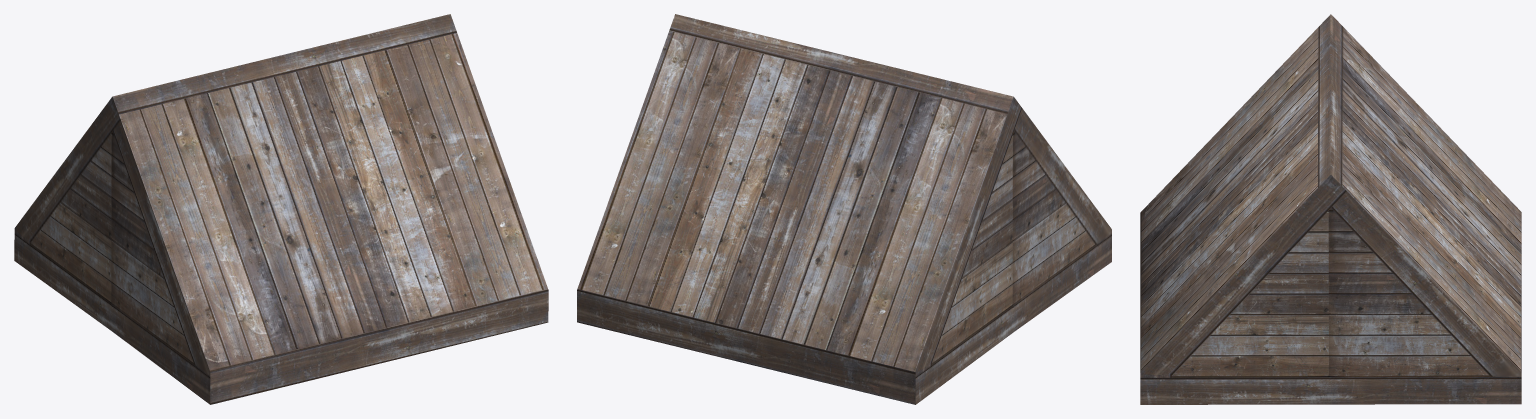
Rendered from roof.FBX.
3 views of the same model, side by side, from view 1: azimuth 30°, elevation 25°; view 2: azimuth 150°, elevation 25°; view 3: azimuth 270°, elevation 25° (orthographic). The views are drawn at different scales.
Visible parts, largest first — view 1: Box009; view 2: Box009; view 3: Box009.
Boxes of the visible parts, box(x1,y1,x2,y2) form: Box009: box(14, 14, 548, 404); Box009: box(577, 14, 1111, 404); Box009: box(1140, 14, 1521, 404).
Bounding box in the file's own units: 139 × 92.84 × 139.
1 material, 1 textured.
